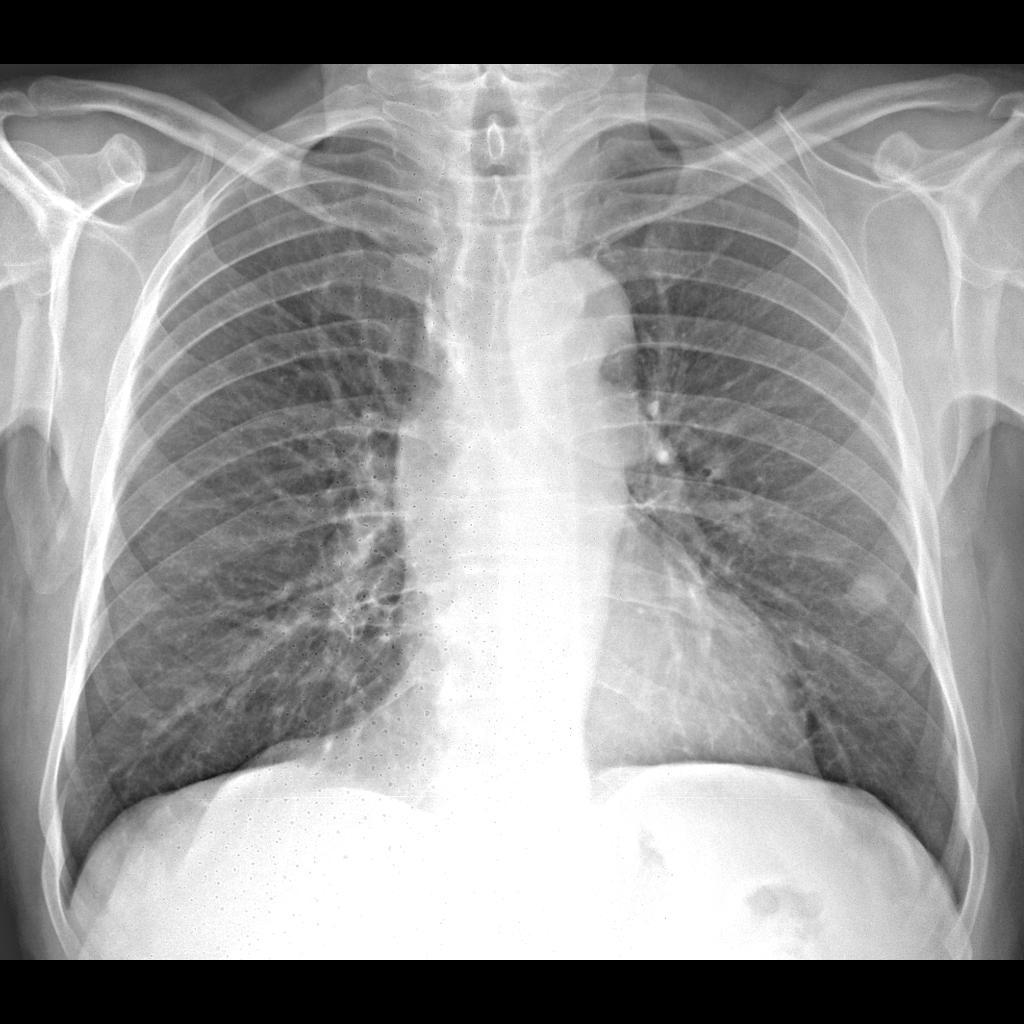Nodule: (839, 568, 898, 626)
